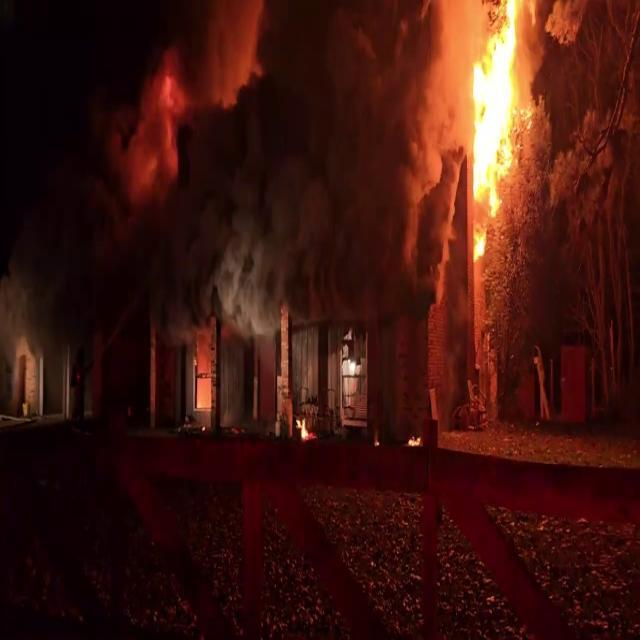Fire: (458, 0, 535, 224)
Smoke: (66, 0, 445, 372)
